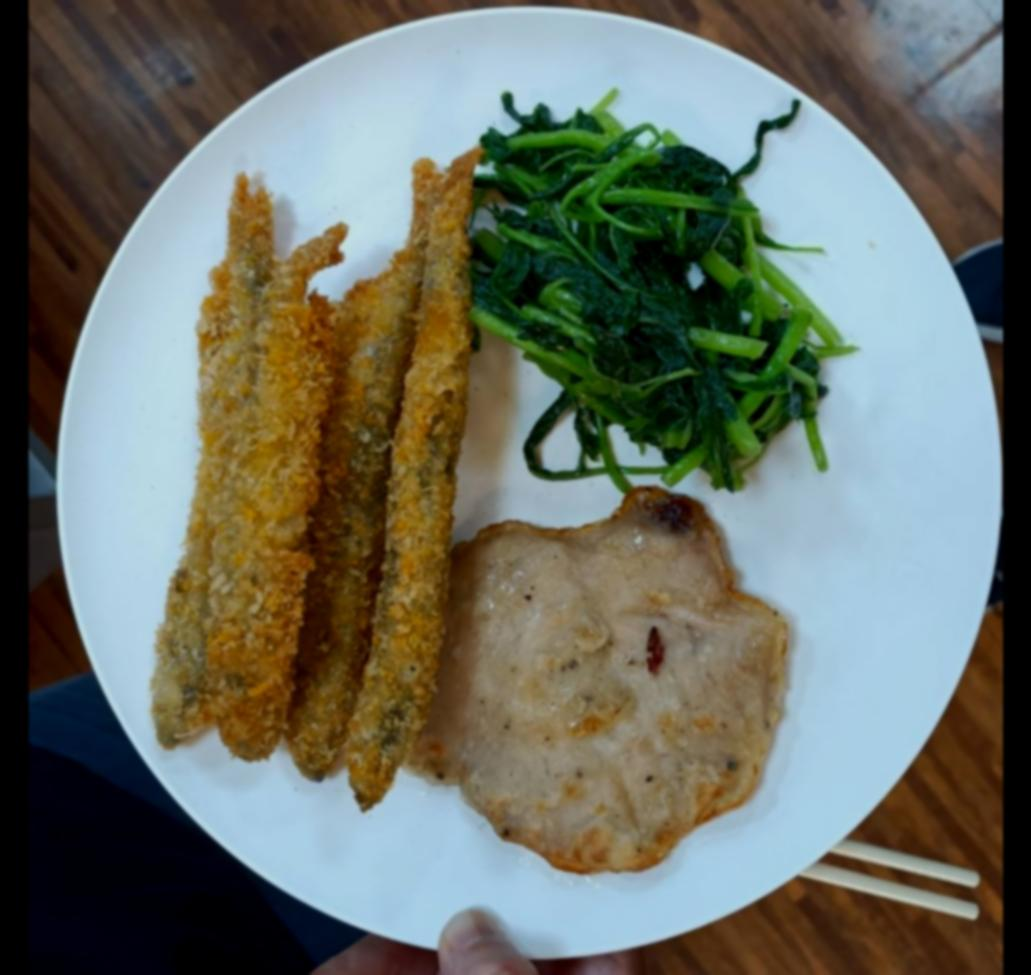big fried chicken leg: (46, 5, 993, 972)
braised fish fillet: (462, 87, 832, 505)
braised pork: (144, 166, 462, 809), (435, 494, 782, 878)
